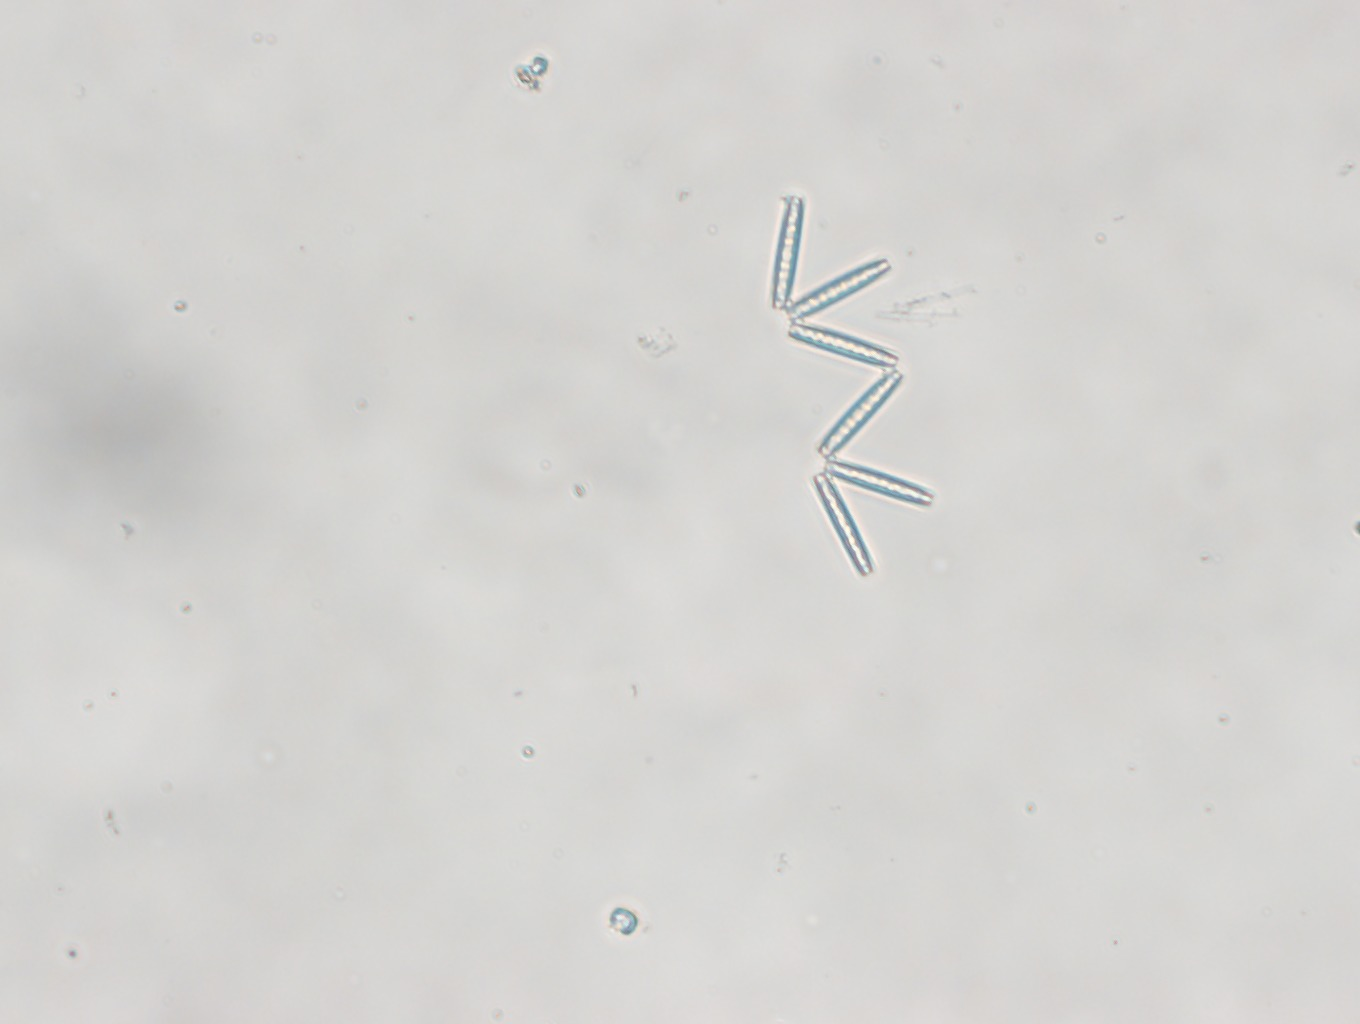thalassionema nitzschioides: (770, 195, 936, 577)
